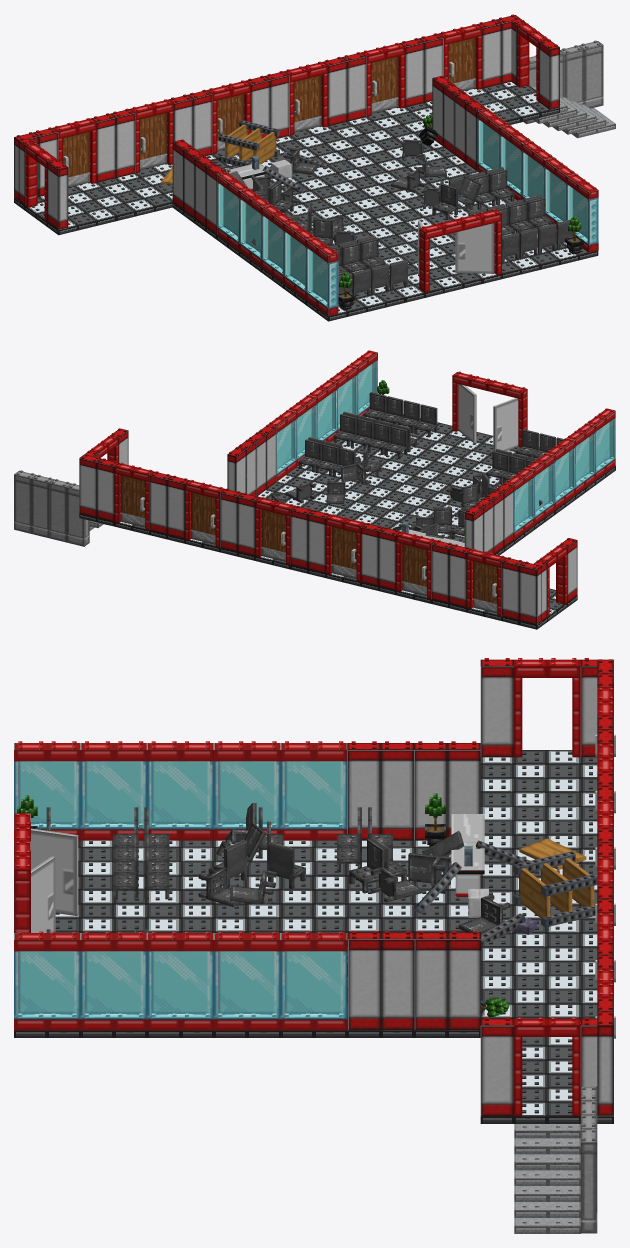
File: Hospital lobby 1.fbx
3 views of the same model, one above another, from view 1: azimuth 30°, elevation 25°; view 2: azimuth 150°, elevation 25°; view 3: azimuth 270°, elevation 25° (orthographic). The views are drawn at different scales.
Parts seen in each view (by area): view 1: cube.017; view 2: cube.017; view 3: cube.017.
Part boxes in pixels (left/top/right/bottom): cube.017: left=14, top=14, right=615, bottom=321; cube.017: left=14, top=350, right=615, bottom=629; cube.017: left=14, top=658, right=615, bottom=1233.
Bounding box in the file's own units: 3000 × 534 × 1806.
